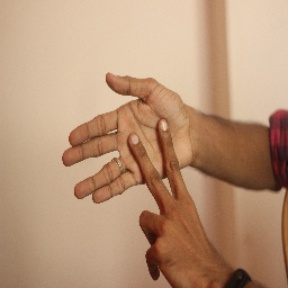N: (58, 68, 204, 242)
